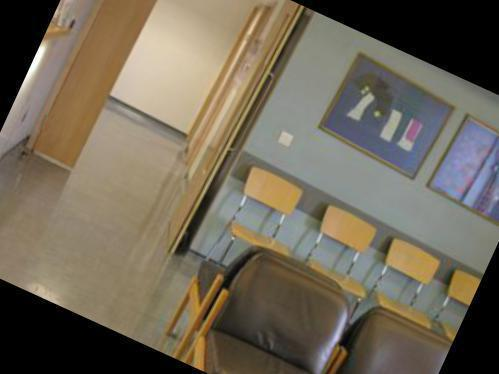Puerta: (162, 0, 310, 254)
